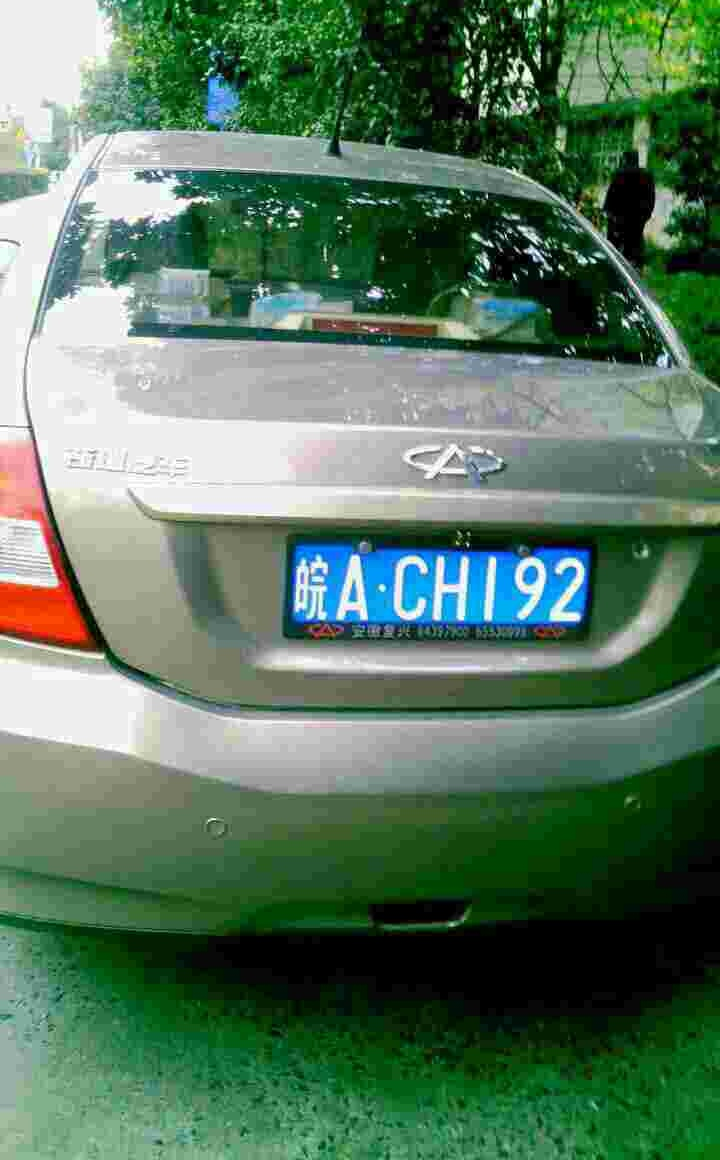license_plate: (282, 537, 585, 637)
